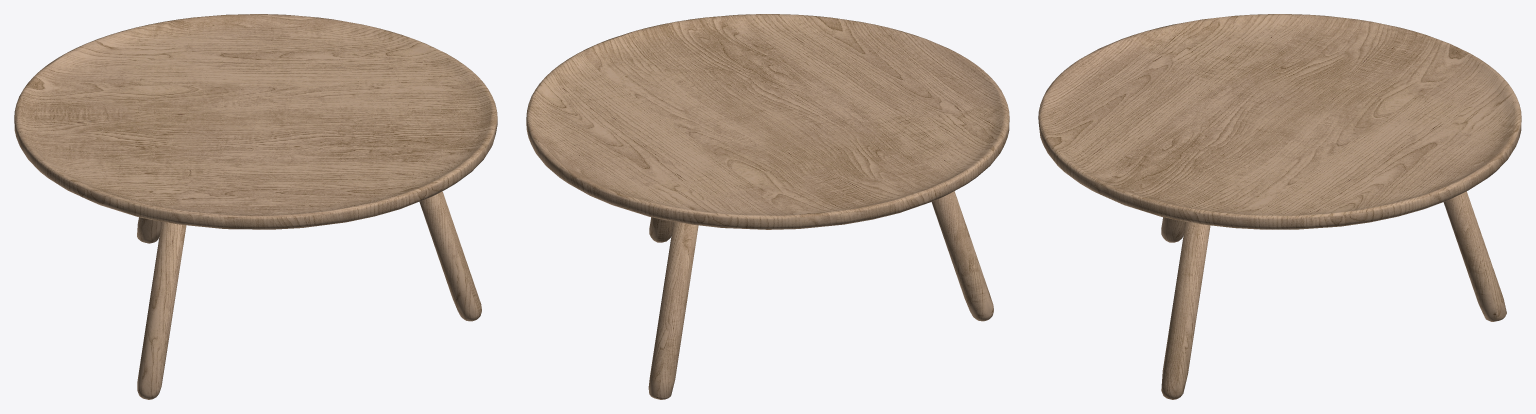
The model's file is Table 1.FBX.
3 views of the same model, side by side, from view 1: azimuth 30°, elevation 25°; view 2: azimuth 150°, elevation 25°; view 3: azimuth 270°, elevation 25° (orthographic).
Parts seen in each view (by area): view 1: table 1; view 2: table 1; view 3: table 1.
Part boxes in pixels (box(x1,y1,x2,y2)): table 1: box(14, 14, 497, 399); table 1: box(526, 14, 1009, 399); table 1: box(1038, 14, 1521, 399).
Bounding box in the file's own units: 79.46 × 37.14 × 79.43.
Materials: 1 (1 with a texture image).
